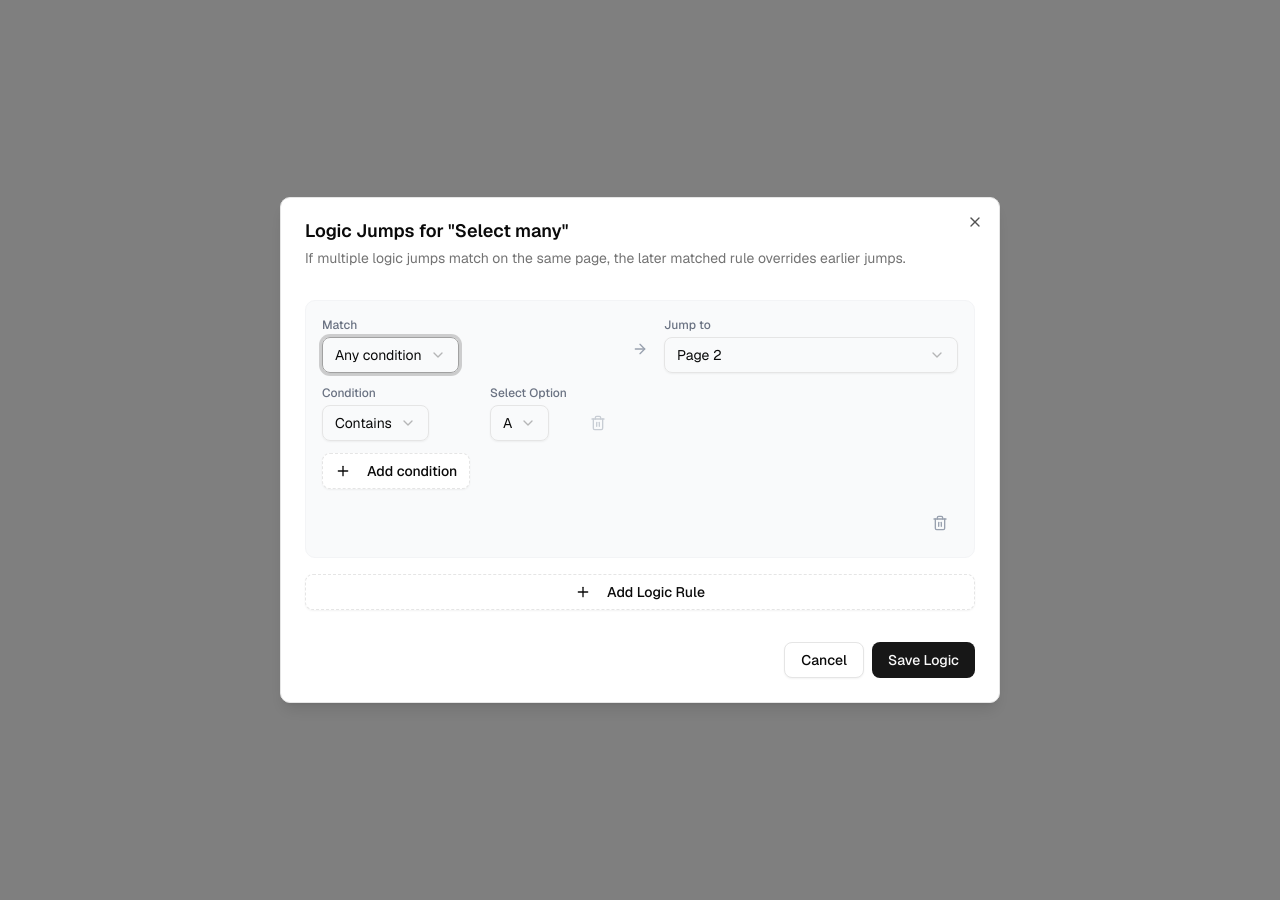
it: LogicEditor › only offers later pages and end survey as destinations
This screenshot has width=1280, height=900.
What coordinates should you click on to do the following:
click the dropdown labelled "Page 2"
I would click on:
 (699, 355)
Its box is [664,337,958,373].
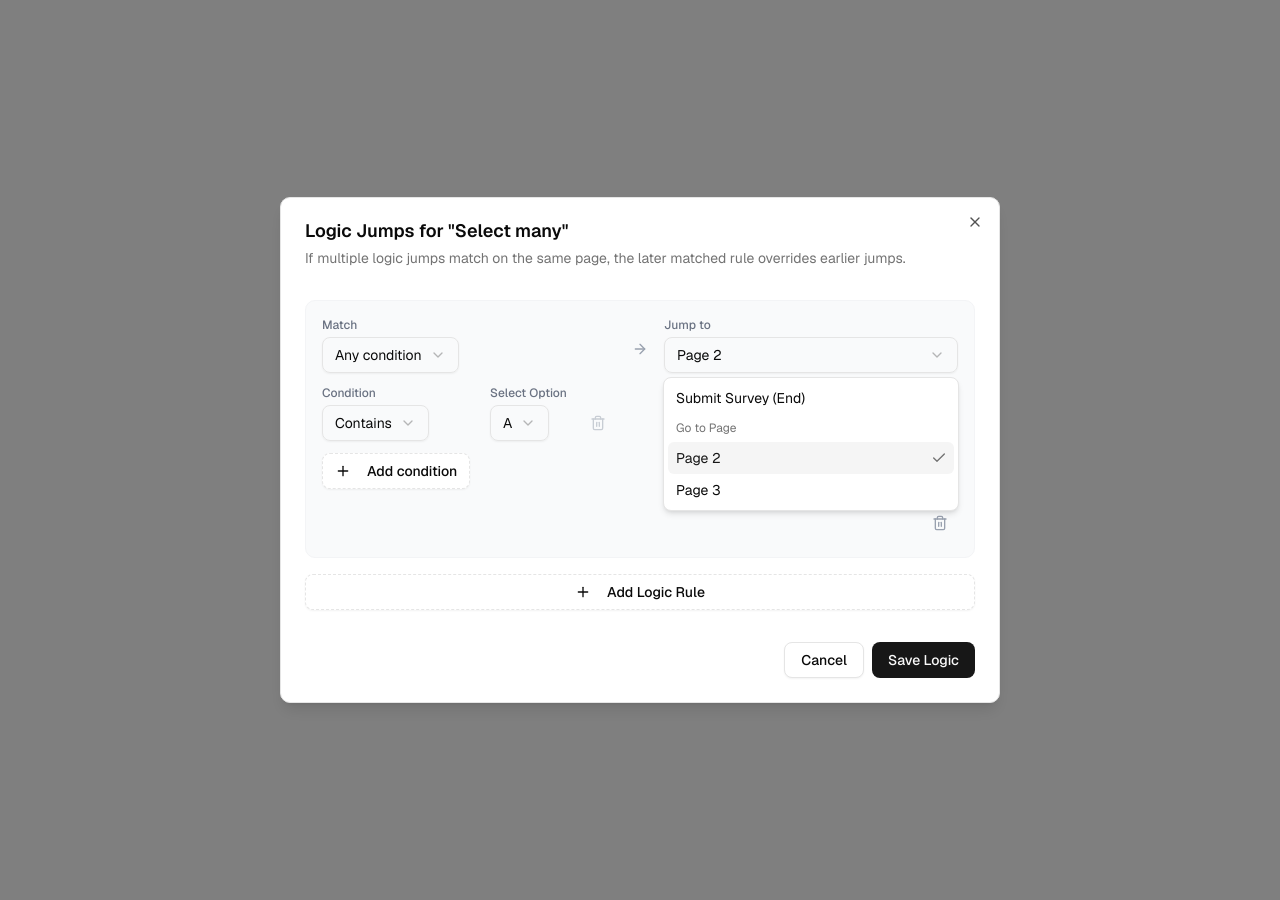
Expected: the text "Page 2" below "Jump to" is shown, [677,346,722,364]
Expected: the text "Submit Survey (End)" is shown, [676,388,805,408]
Expected: the text "Page 3" is shown, [676,480,720,500]
